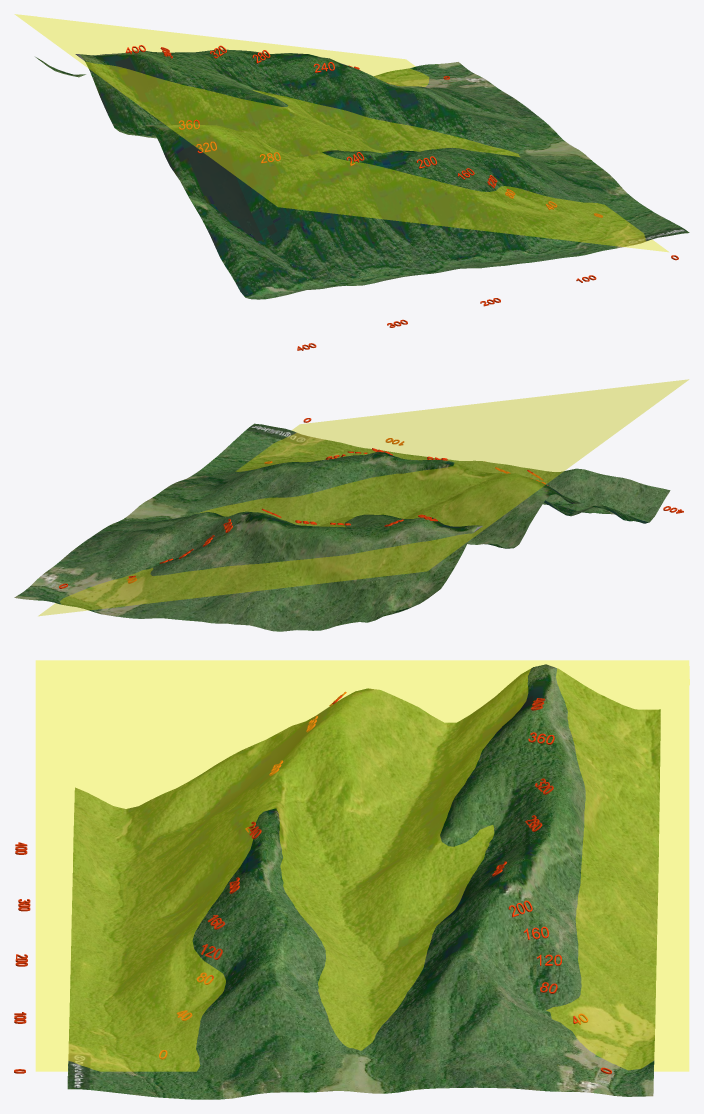
File: RioRastro2b.glb
The picture shows the model from 3 angles, top to bottom: view 1: azimuth 30°, elevation 25°; view 2: azimuth 150°, elevation 25°; view 3: azimuth 270°, elevation 25°; orthographic projection. The views are drawn at different scales.
Visible parts, largest first — view 1: root; view 2: root; view 3: root.
Boxes of the visible parts, x1=… form: root: x1=15, y1=14, x2=689, y2=350; root: x1=14, y1=379, x2=688, y2=631; root: x1=14, y1=660, x2=689, y2=1099.
Bounding box in the file's own units: 2041 × 668 × 2243.
4 materials, 1 textured.
